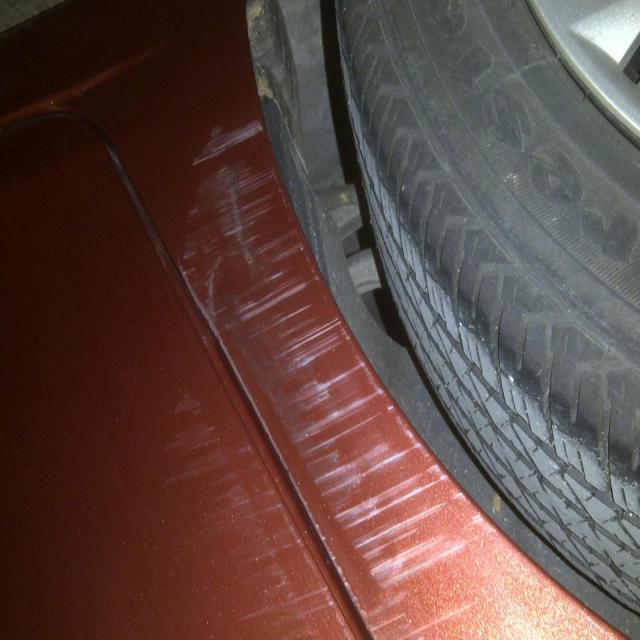scratch: (127, 88, 510, 639)
